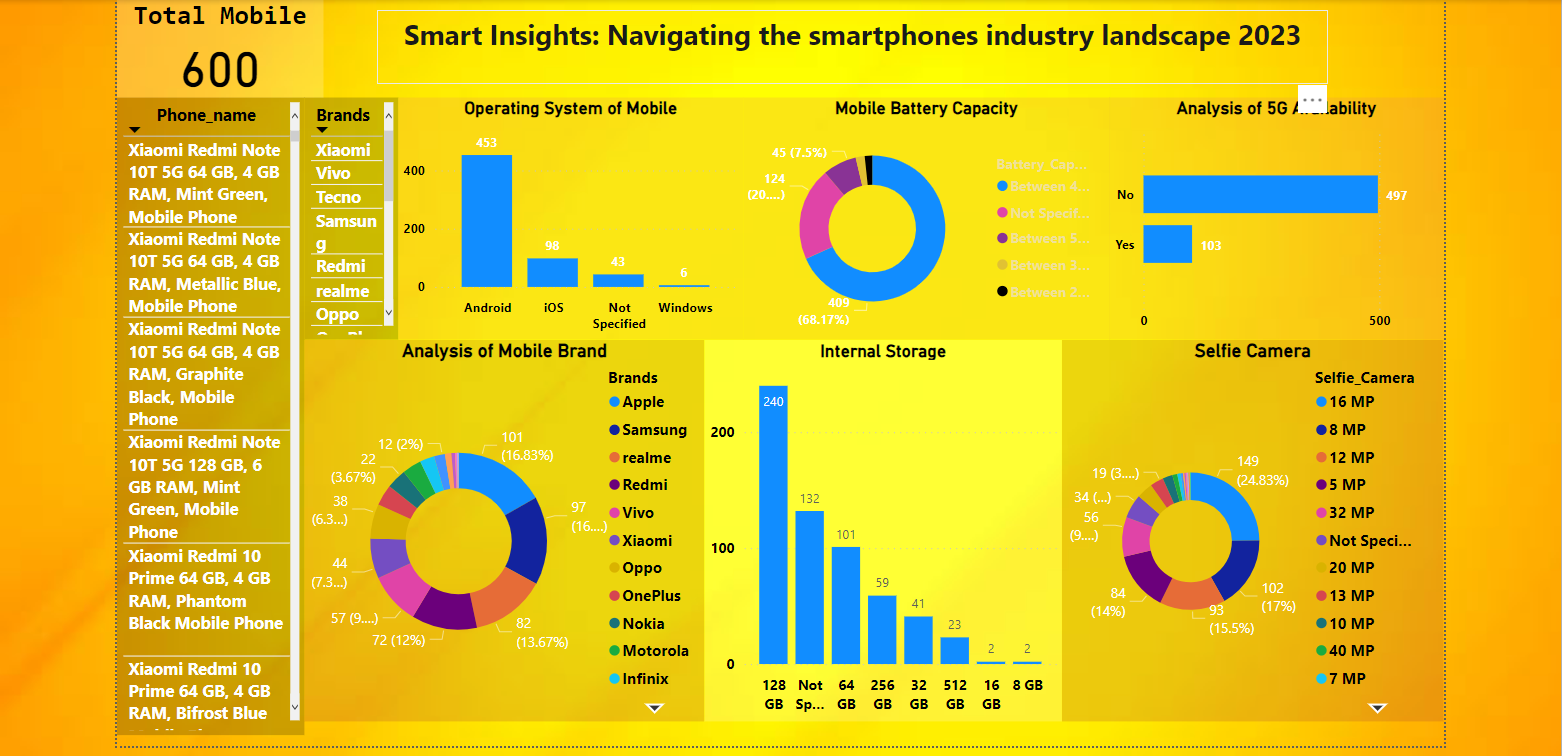

The page's visual inventory and layout, read from the dashboard file:
{"tool":"powerbi","page":{"name":"Page 1","canvas":[1280,720],"ordinal":0},"visuals":[{"type":"card","title":"Total Mobile","fields":{"Values":["Sum(Mobile Analysis.Total_Mobile)"]},"box":[0,0,199,94.1],"z":0},{"type":"tableEx","fields":{"Values":["Mobile Analysis.Phone_name"]},"box":[0,94.1,180.9,234],"z":1000},{"type":"tableEx","fields":{"Values":["Mobile Analysis.Brands"]},"box":[180.9,94.1,90.5,234],"z":2000},{"type":"clusteredColumnChart","title":"Operating System of Mobile","fields":{"Category":["Mobile Analysis.Operating_System_Type"],"Y":["Sum(Mobile Analysis.Total_Mobile)"]},"box":[271.4,94.1,332.9,234],"z":3000},{"type":"donutChart","title":"Mobile Battery Capacity","fields":{"Category":["Mobile Analysis.Battery_Capacity_Range"],"Y":["Sum(Mobile Analysis.Total_Mobile)"]},"box":[604.2,94.1,353.4,234],"z":4000},{"type":"barChart","title":"Analysis of 5G Availability ","fields":{"Category":["Mobile Analysis.5G_Availability"],"Y":["Sum(Mobile Analysis.Total_Mobile)"]},"box":[957.6,94.1,322,234],"z":5000},{"type":"donutChart","title":"Analysis of Mobile Brand","fields":{"Category":["Mobile Analysis.Brands"],"Y":["Sum(Mobile Analysis.Total_Mobile)"]},"box":[180.9,328,385.9,367.8],"z":6000},{"type":"columnChart","title":"Internal Storage","fields":{"Category":["Mobile Analysis.Internal_Storage"],"Y":["Sum(Mobile Analysis.Total_Mobile)"]},"box":[566.8,328,344.9,367.8],"z":7000},{"type":"donutChart","title":"Selfie Camera","fields":{"Y":["Sum(Mobile Analysis.Total_Mobile)"],"Category":["Mobile Analysis.Selfie_Camera"]},"box":[911.8,328,367.8,367.8],"z":8000},{"type":"textbox","box":[250.9,9.6,917.8,71.2],"z":9000},{"type":"tableEx","box":[0,328,181,368],"z":9001}]}

Visuals, with their boxes on the page's 1280x720 design canvas (x1, y1, x2, y2). These are canvas units, not pixel positions in the 1562x756 screenshot, which may show the page scaled, cropped or inside an application window:
"Total Mobile" card: <box>0,0,199,94</box>
tableEx - Mobile Analysis.Phone_name: <box>0,94,181,328</box>
tableEx - Mobile Analysis.Brands: <box>181,94,271,328</box>
"Operating System of Mobile" clusteredColumnChart: <box>271,94,604,328</box>
"Mobile Battery Capacity" donutChart: <box>604,94,958,328</box>
"Analysis of 5G Availability " barChart: <box>958,94,1280,328</box>
"Analysis of Mobile Brand" donutChart: <box>181,328,567,696</box>
"Internal Storage" columnChart: <box>567,328,912,696</box>
"Selfie Camera" donutChart: <box>912,328,1280,696</box>
textbox: <box>251,10,1169,81</box>
tableEx: <box>0,328,181,696</box>
